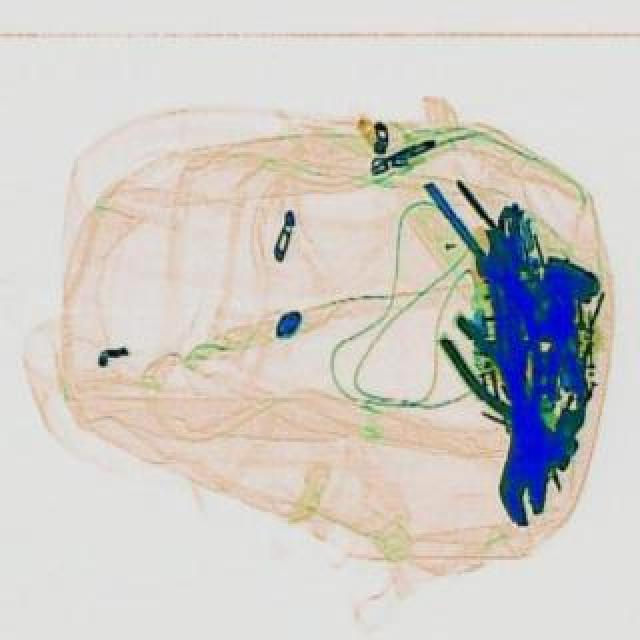scissors: (484, 204, 548, 526)
wrench: (424, 310, 588, 472)
